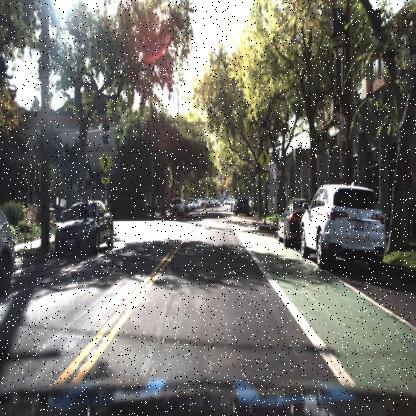car: (300, 181, 388, 270), (50, 193, 114, 260), (275, 192, 312, 250), (277, 194, 311, 249), (0, 201, 16, 302), (167, 195, 185, 219), (233, 193, 251, 217), (233, 195, 250, 215)
